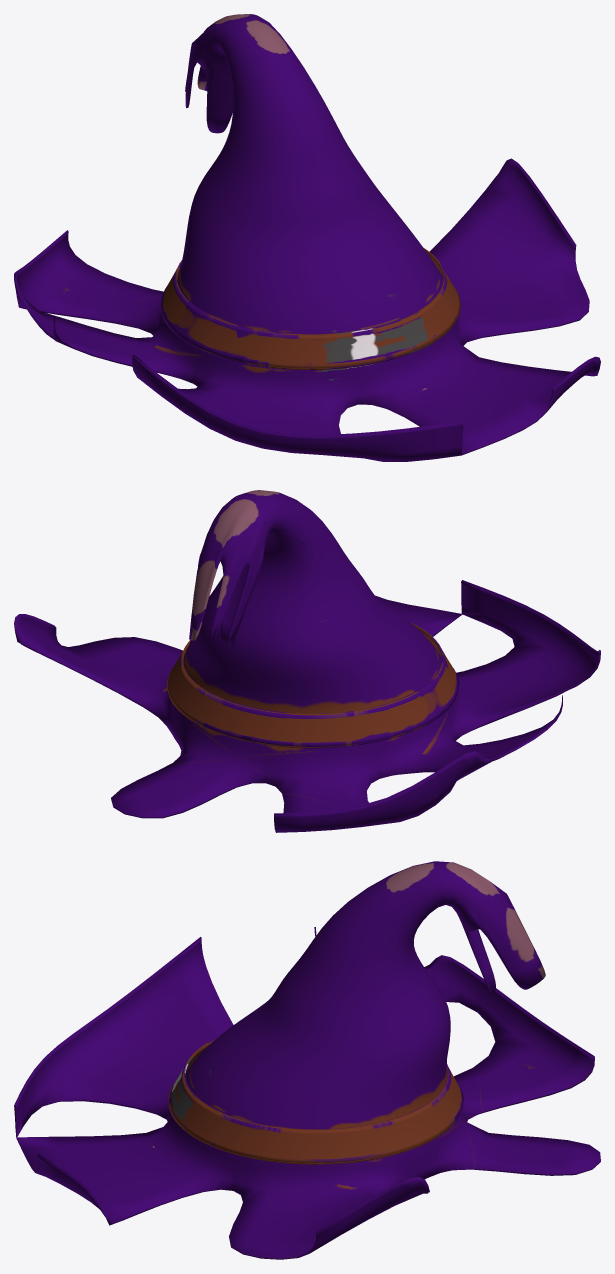
The model's file is Maguso_TornHat_VeryTorn.fbx.
3 renders of one model, top to bottom at view 1: azimuth 30°, elevation 25°; view 2: azimuth 150°, elevation 25°; view 3: azimuth 270°, elevation 25°, orthographic. The views are drawn at different scales.
Parts seen in each view (by area): view 1: Circle; view 2: Circle; view 3: Circle.
Part boxes in pixels (x1,y1,x2,y2): Circle: (14, 14, 600, 461); Circle: (14, 490, 600, 832); Circle: (14, 861, 600, 1259).
Bounding box in the file's own units: 401 × 205 × 397.
